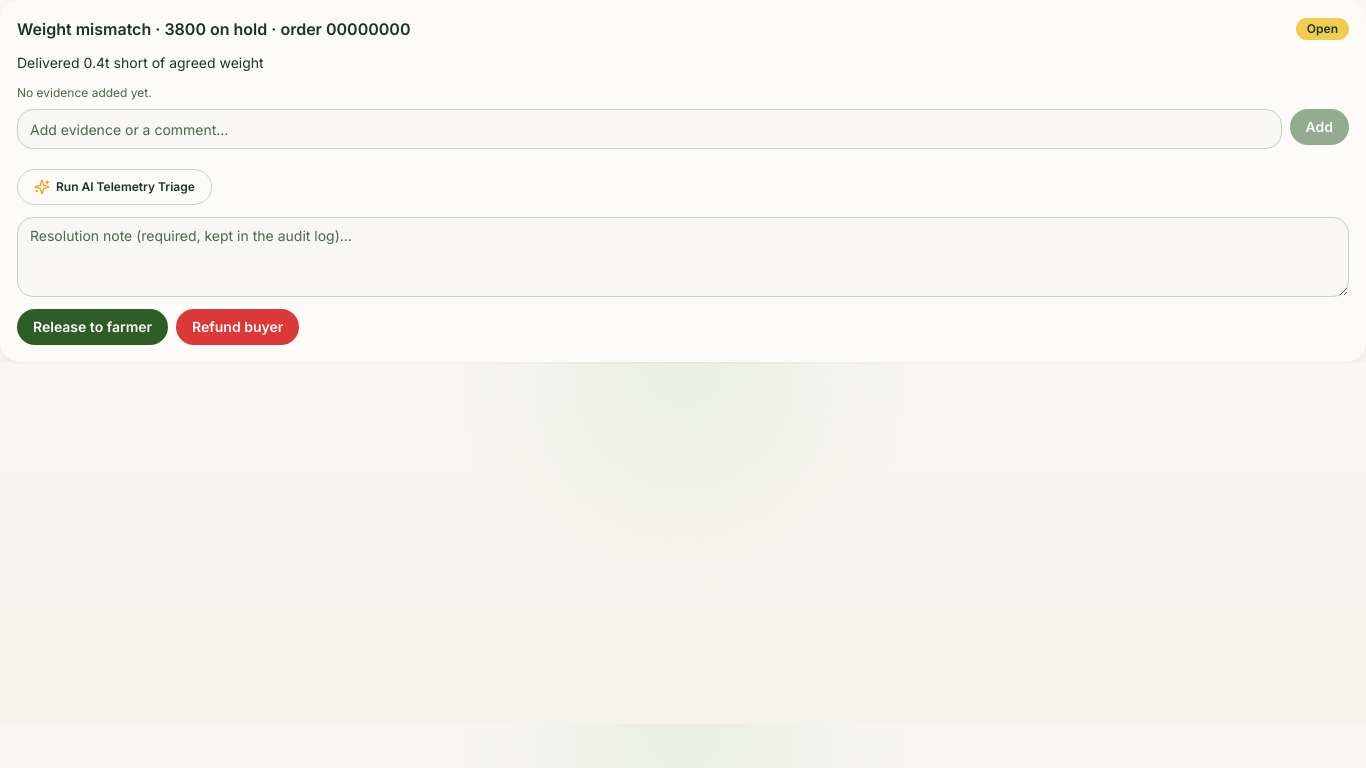
AdminDisputesPanel › requires a note before resolving
The image size is (1366, 768).
Click the button "Refund buyer": click(238, 327) x1=176 y1=309 x2=299 y2=345
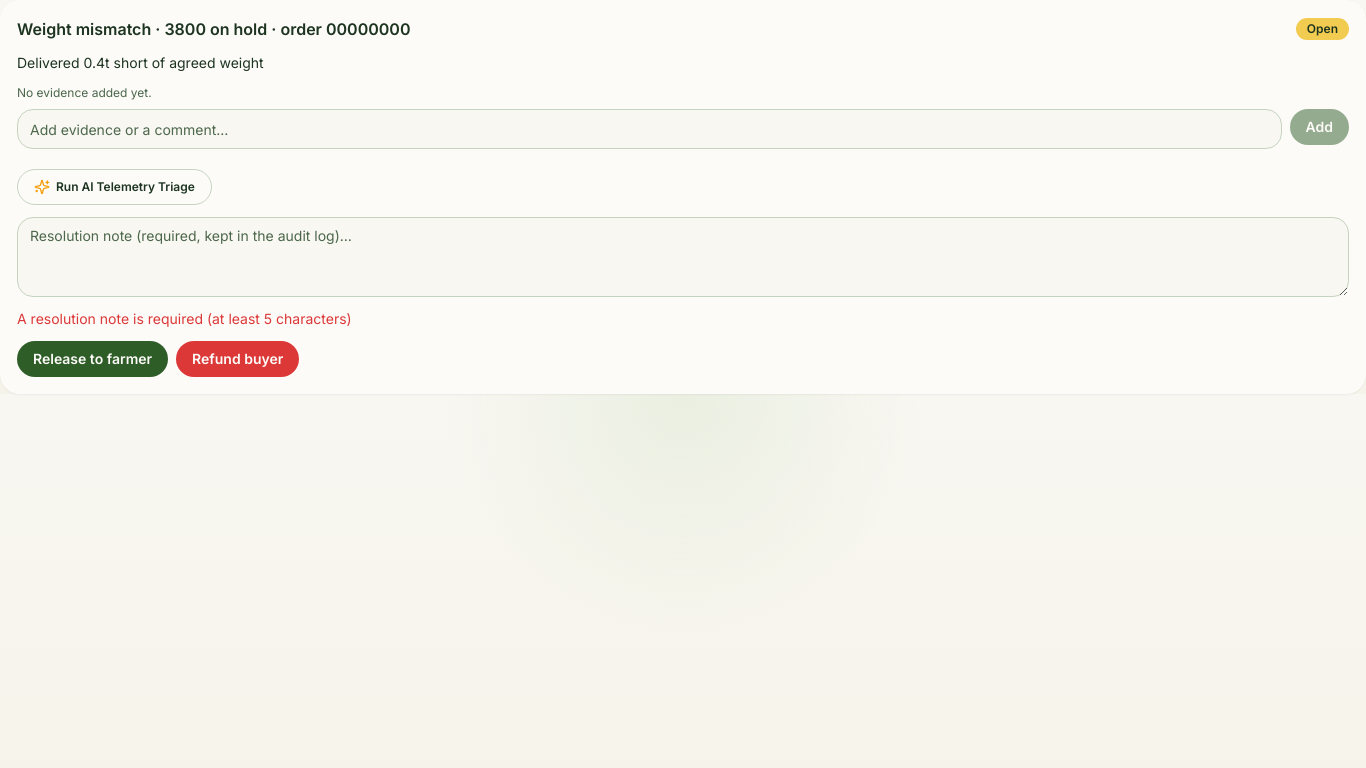
Expected: the message shows "note is required", x1=17 y1=310 x2=352 y2=327
